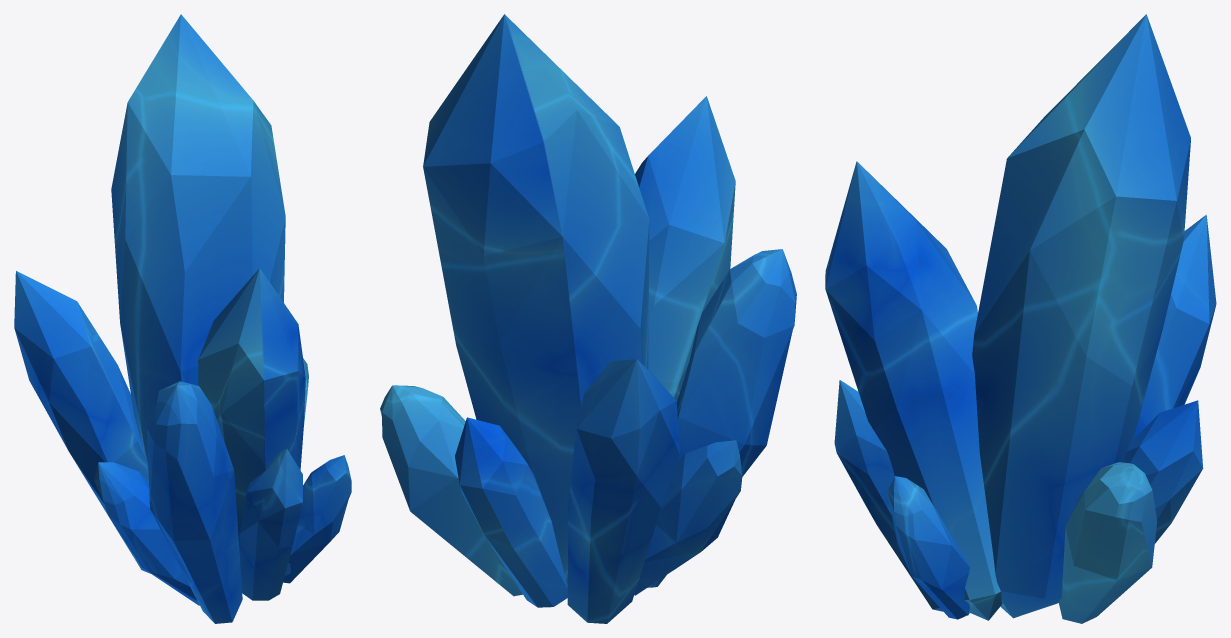
Rendered from blue_crystals.glb.
3 views of the same model, side by side, from view 1: azimuth 30°, elevation 25°; view 2: azimuth 150°, elevation 25°; view 3: azimuth 270°, elevation 25° (orthographic). The views are drawn at different scales.
Parts seen in each view (by area): view 1: Object_2; view 2: Object_2; view 3: Object_2.
Part boxes in pixels (x1,y1,x2,y2): Object_2: (14,14,351,623); Object_2: (380,14,796,623); Object_2: (825,14,1216,623).
Bounding box in the file's own units: 5.1 × 9.91 × 5.66.
Materials: 1 (1 with a texture image).
